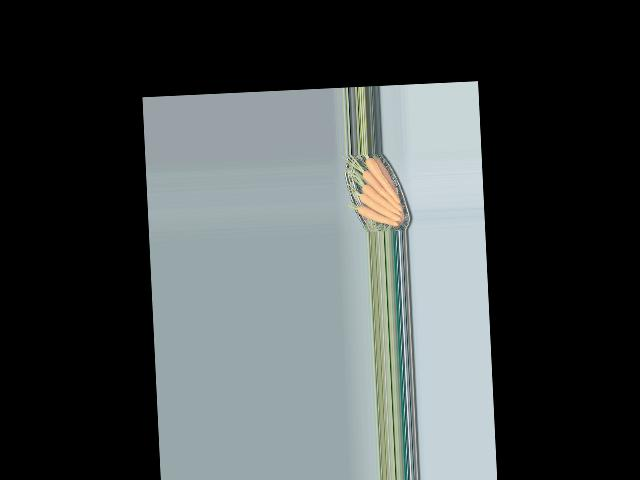carrot: (358, 207, 398, 228)
